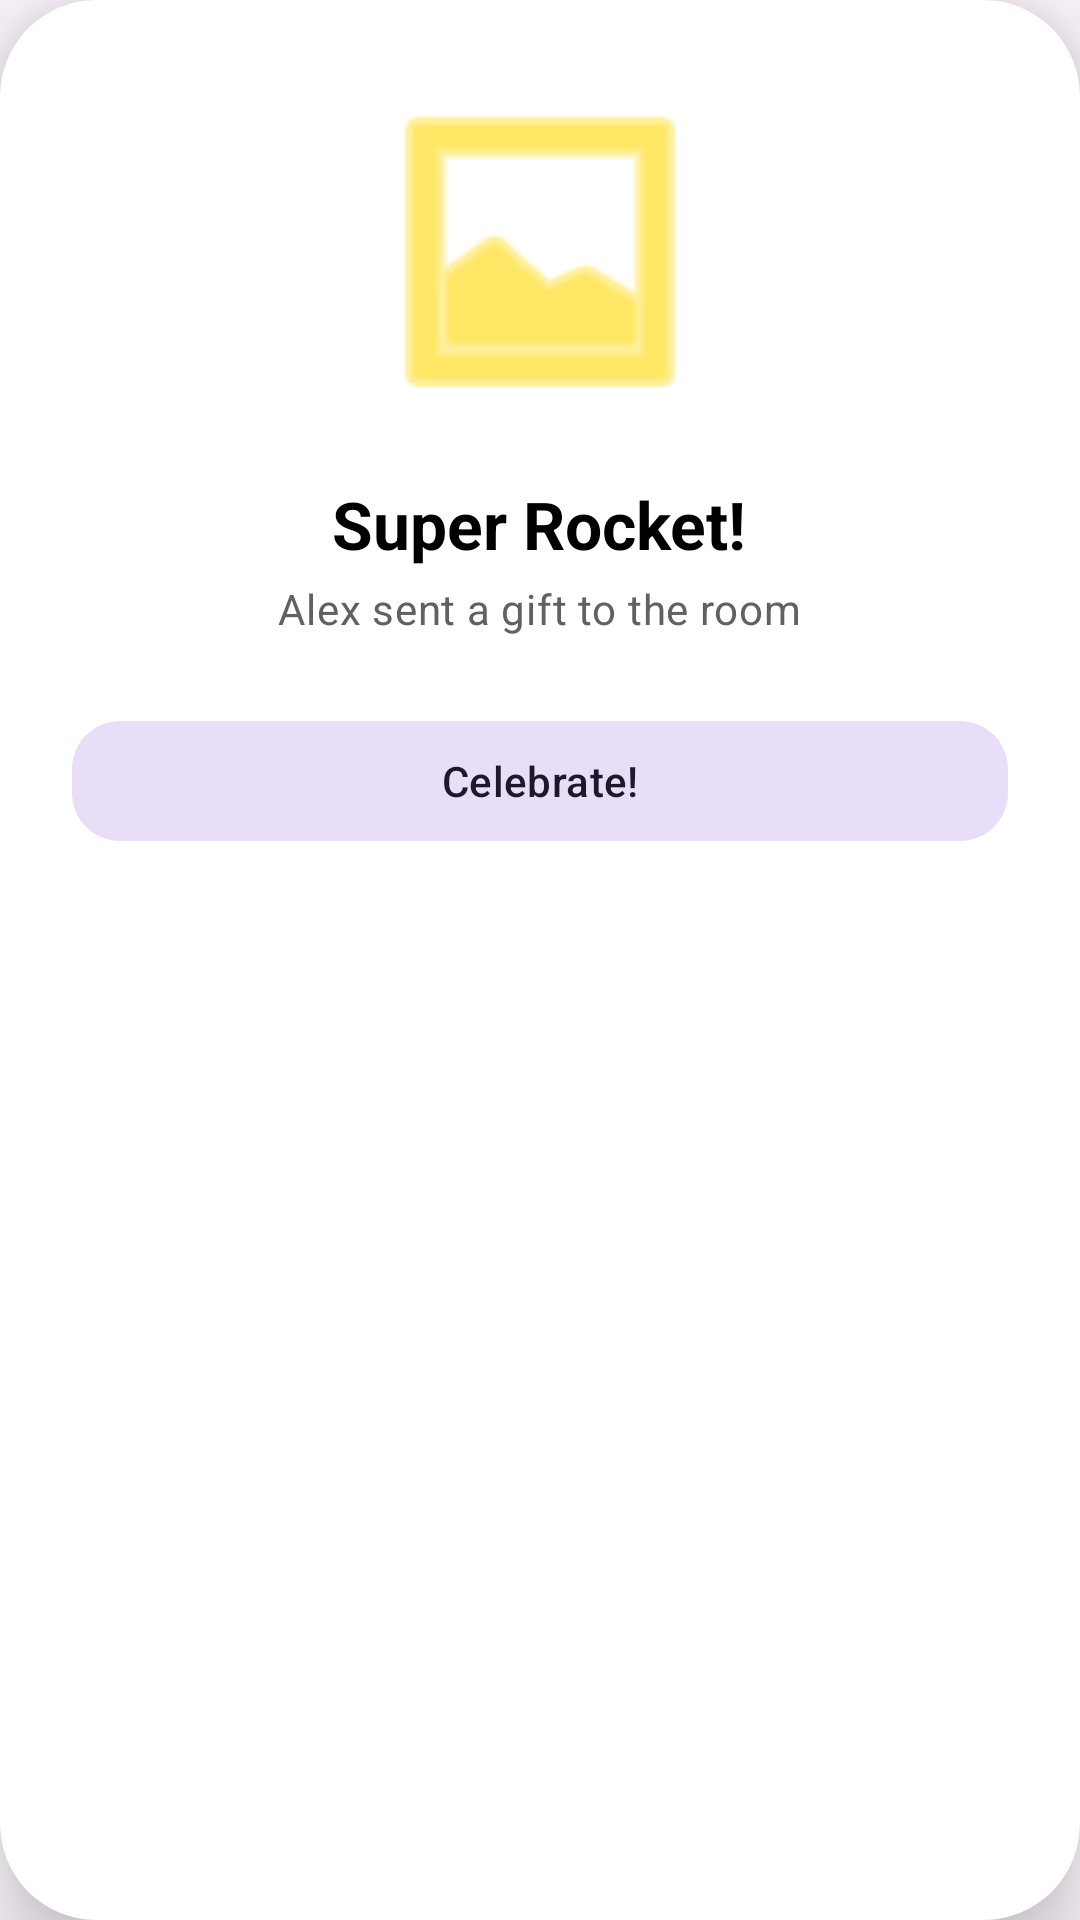

Icon bounding boxes for this 1080 x 1920 phone screenshot, format (x1, y1, x2, y2):
gallery: (404, 116, 676, 388)
